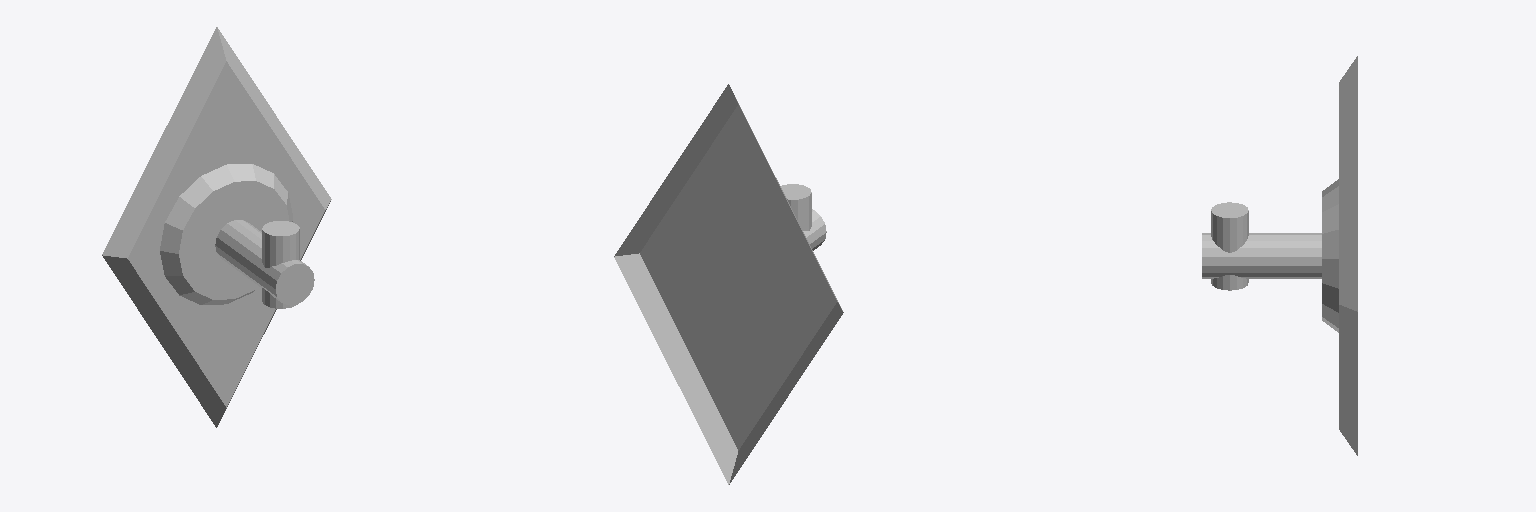
The model's file is torch.obj.
The picture shows the model from 3 angles: view 1: azimuth 30°, elevation 25°; view 2: azimuth 150°, elevation 25°; view 3: azimuth 270°, elevation 25°; orthographic projection.
Visible parts, largest first — view 1: Circle_Circle.001; view 2: Circle_Circle.001; view 3: Circle_Circle.001.
Boxes of the visible parts, x1=… form: Circle_Circle.001: x1=102, y1=27, x2=331, y2=427; Circle_Circle.001: x1=614, y1=84, x2=843, y2=484; Circle_Circle.001: x1=1202, y1=56, x2=1357, y2=455.
Size of the model in its own units: 0.8697 by 1.46 by 0.5135.